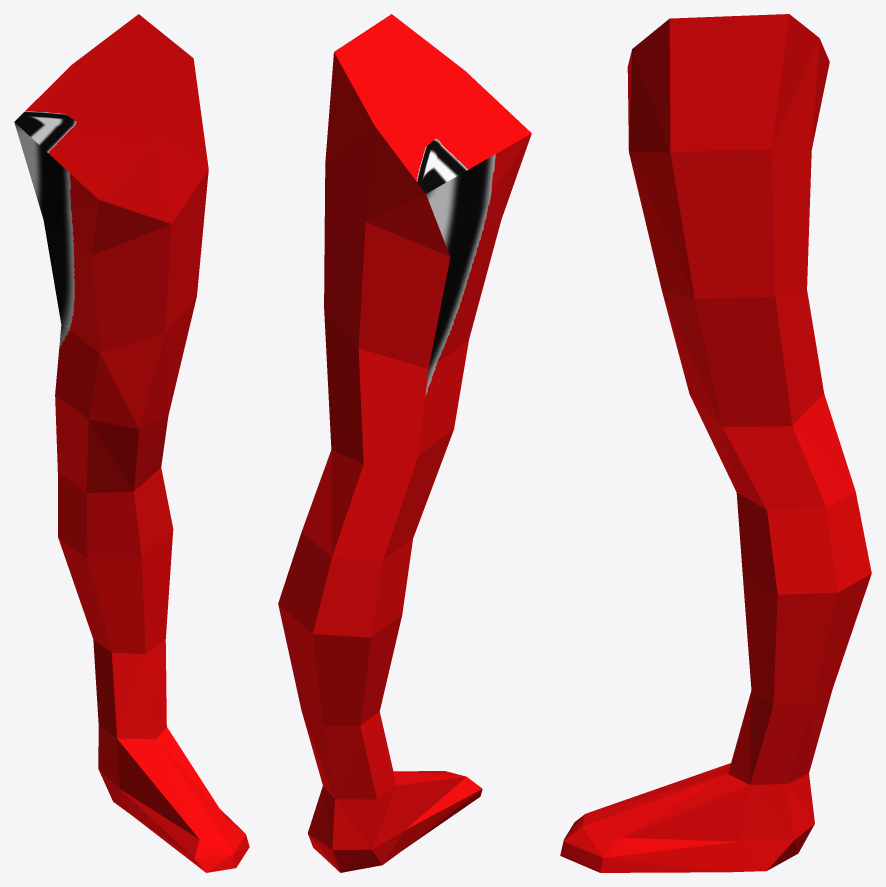
Rendered from enemy2LeftLeg.obj.
The picture shows the model from 3 angles, left to right: view 1: azimuth 30°, elevation 25°; view 2: azimuth 150°, elevation 25°; view 3: azimuth 270°, elevation 25°; orthographic projection. The views are drawn at different scales.
Parts seen in each view (by area): view 1: Cube.006; view 2: Cube.006; view 3: Cube.006.
Boxes of the visible parts, x1,y1,x2,y2 form: Cube.006: (14,14,249,872); Cube.006: (278,14,531,872); Cube.006: (560,14,871,872).
Bounding box in the file's own units: 0.2072 × 1.06 × 0.3544.
